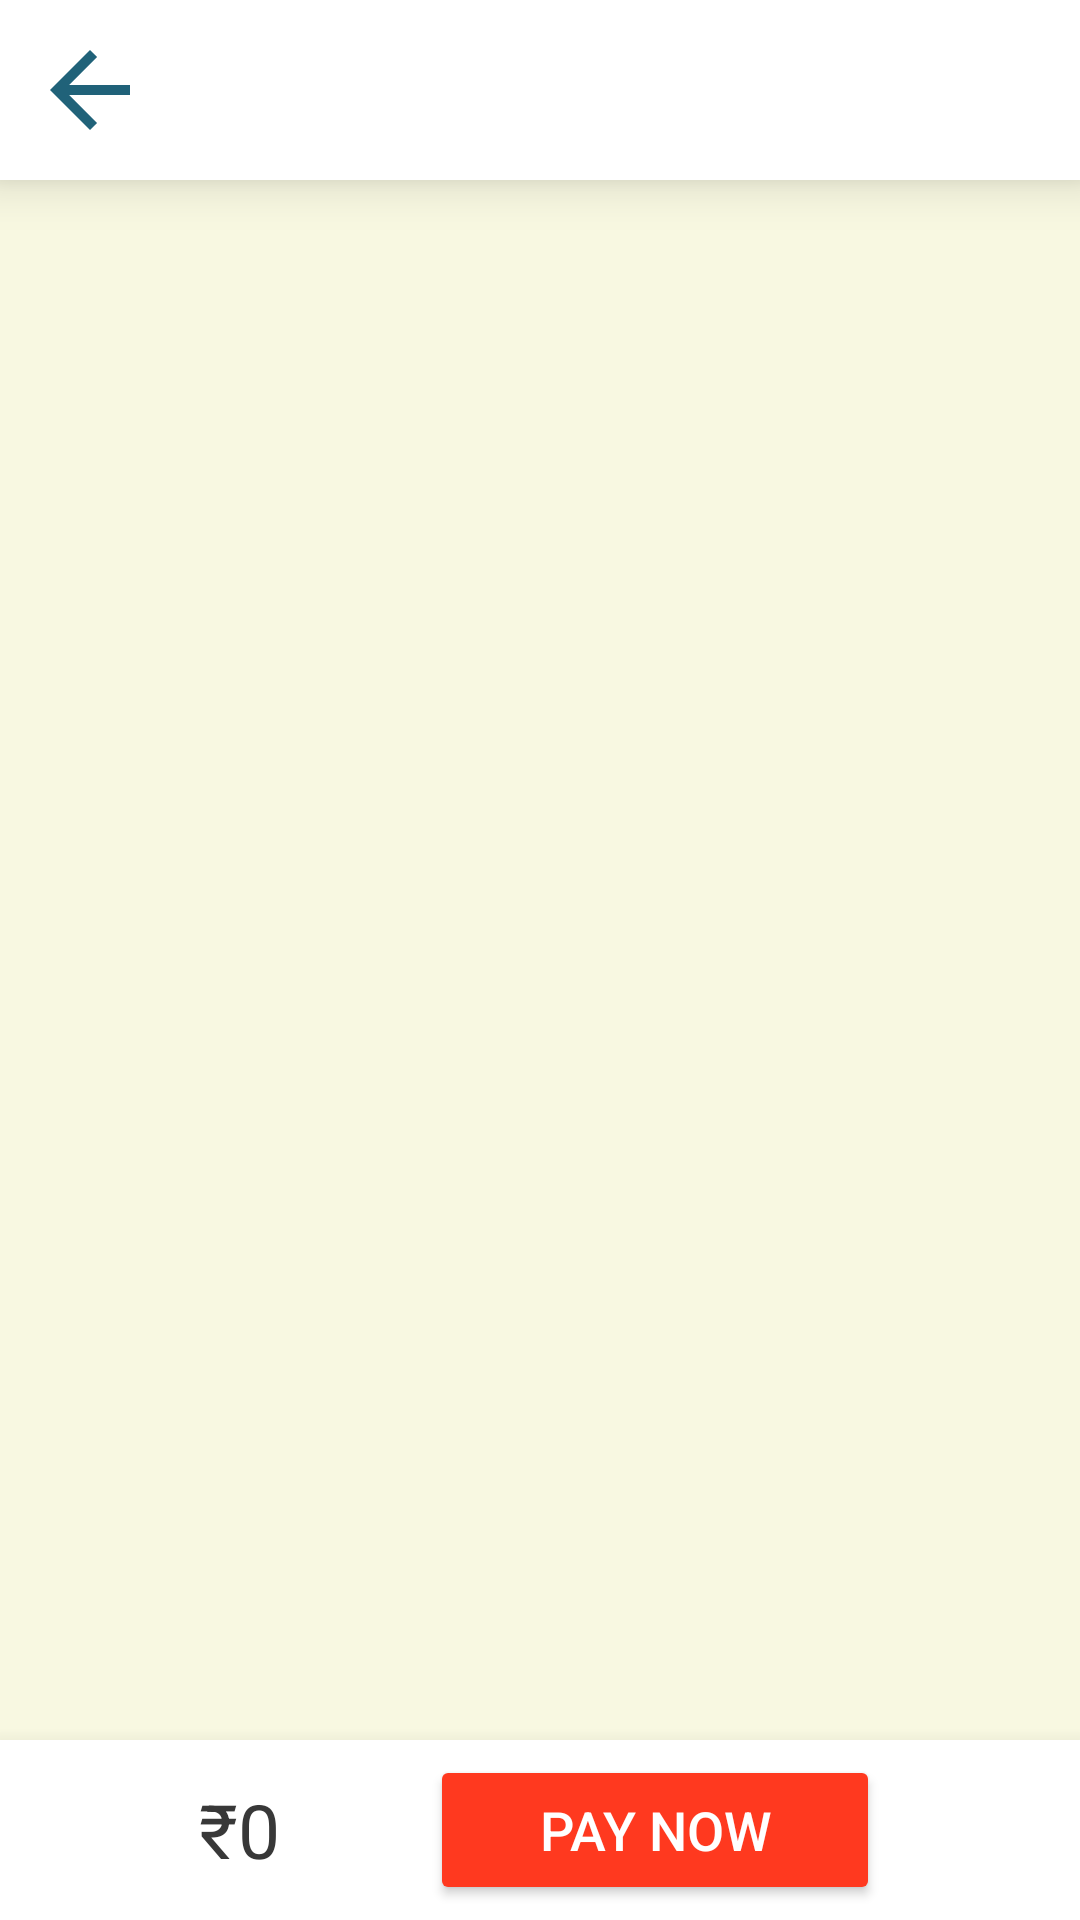

Screen size 1080×1920. Icon name, then its box in pixels as {"x1": x1, "y1": y1, "x2": x2, "y2": y2}:
arrow back: {"x1": 50, "y1": 50, "x2": 130, "y2": 130}
